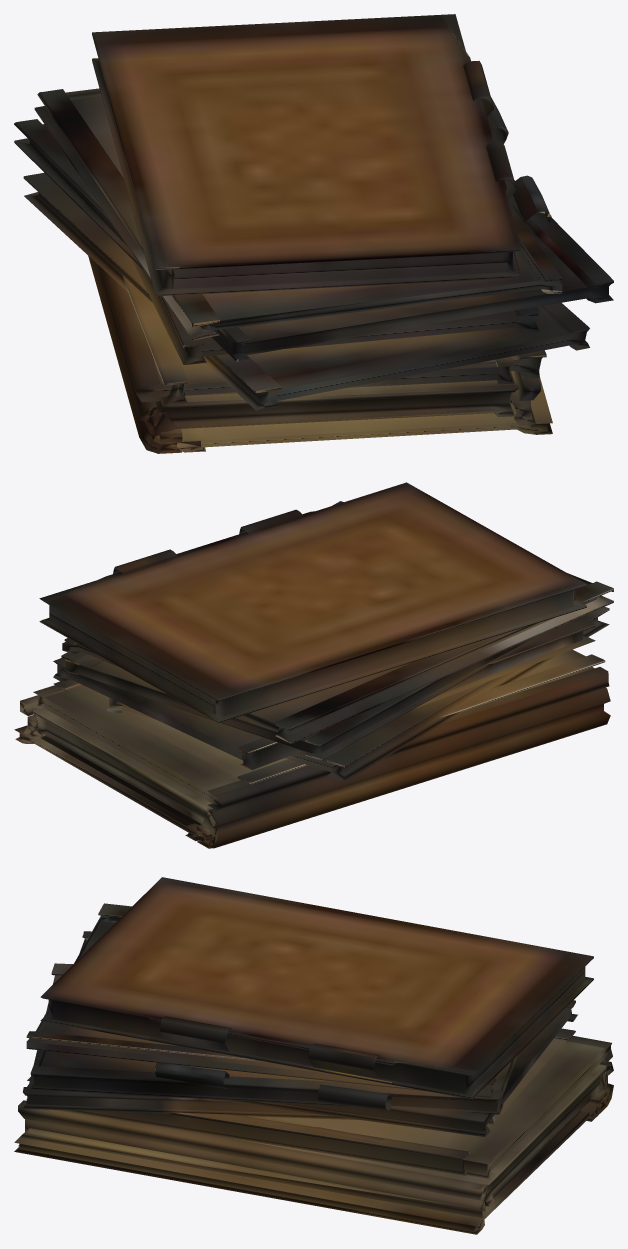
Rendered from OparetionRoom_AI_Prop.042.fbx.
3 renders of one model, top to bottom at view 1: azimuth 30°, elevation 25°; view 2: azimuth 150°, elevation 25°; view 3: azimuth 270°, elevation 25°, orthographic. The views are drawn at different scales.
Parts seen in each view (by area): view 1: OparetionRoom_AI_Prop.042; view 2: OparetionRoom_AI_Prop.042; view 3: OparetionRoom_AI_Prop.042.
Part boxes in pixels (x1,y1,x2,y2): OparetionRoom_AI_Prop.042: (14,14,613,453); OparetionRoom_AI_Prop.042: (14,482,613,848); OparetionRoom_AI_Prop.042: (14,877,613,1234).
Size of the model in its own units: 65.49 by 21.12 by 75.6.
